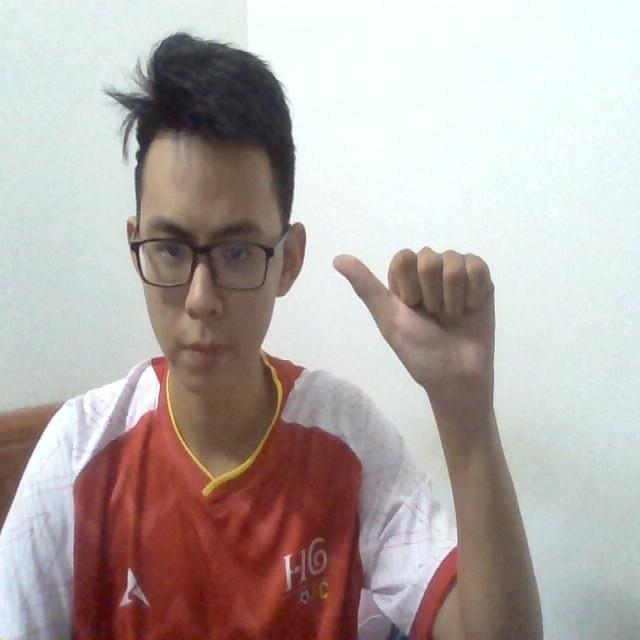A: (325, 237, 497, 408)
